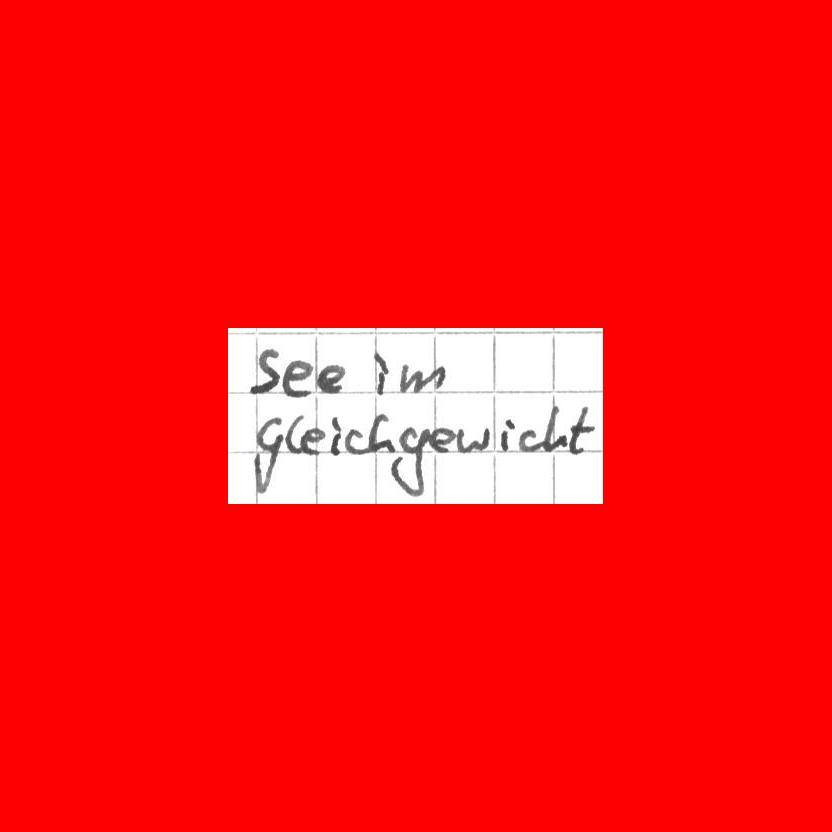Char: (389, 424, 429, 501), (251, 416, 283, 495), (248, 346, 280, 398), (400, 361, 443, 394), (569, 403, 595, 455), (365, 410, 395, 454), (281, 356, 313, 397), (541, 404, 566, 454), (315, 360, 346, 394), (456, 422, 487, 455), (283, 412, 304, 455), (372, 350, 390, 395), (429, 425, 455, 453), (497, 415, 515, 454), (301, 425, 324, 455), (328, 415, 344, 457), (344, 427, 365, 454), (518, 428, 540, 452)
